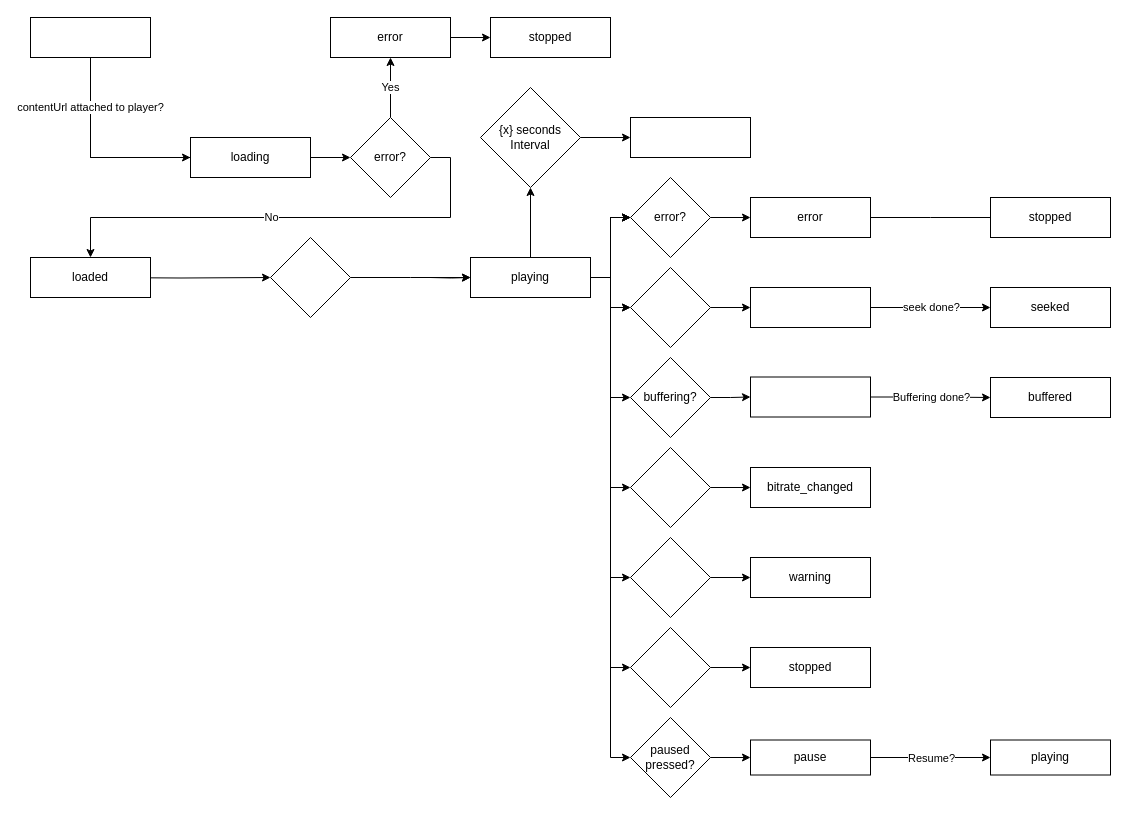
Some shapes in this 1128 by 815 pixel diagram are drawn without their labels. The shapes that lost their labels are listed below. From the top down, each one's centre as x and y in pixels, then its label:
the point at 90,37: init
the point at 690,137: heartbeat
the point at 310,277: play requested
the point at 670,307: seek?
the point at 810,307: seeking
the point at 810,396: buffering
the point at 670,487: bitrate change?
the point at 670,577: warning?
the point at 670,667: ended/ aborted
